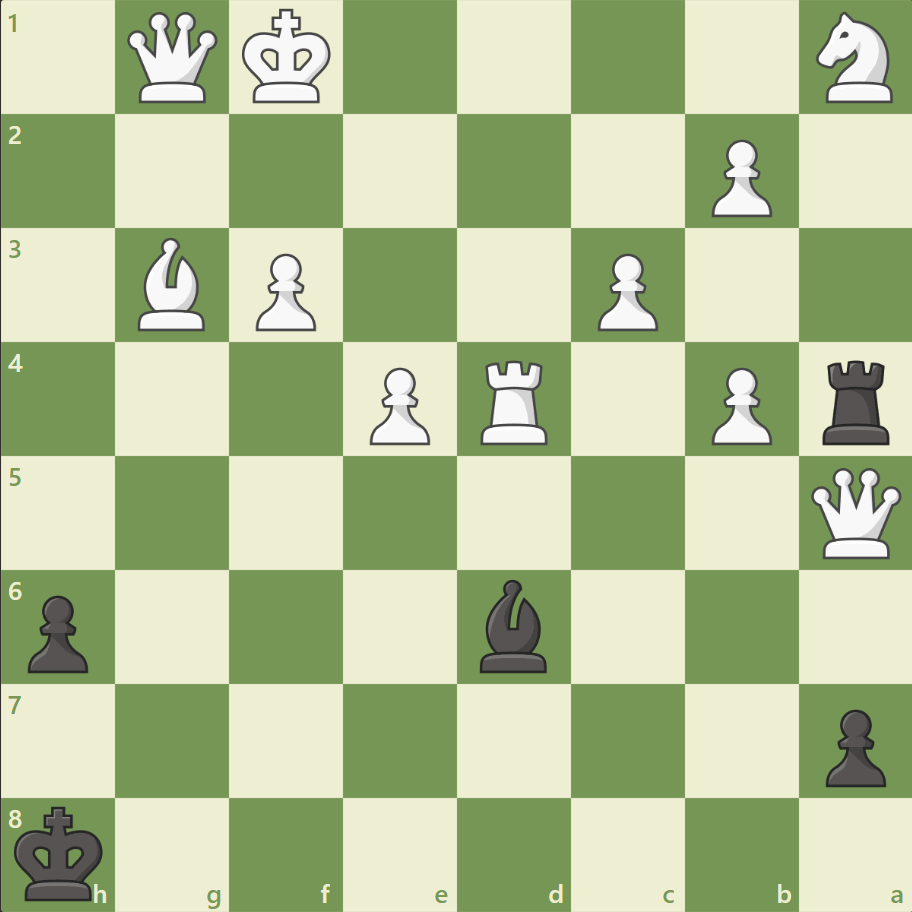B: (131, 233, 215, 336)
K: (238, 4, 338, 112)
N: (806, 7, 903, 110)
P: (701, 359, 776, 450), (247, 246, 322, 337), (701, 132, 776, 223), (361, 359, 435, 450), (588, 246, 662, 337)
Q: (805, 463, 904, 562), (124, 9, 223, 108)
R: (473, 352, 556, 449)
b: (471, 574, 555, 676)
k: (11, 798, 111, 906)
p: (20, 586, 95, 677), (815, 700, 889, 791)
r: (814, 352, 897, 449)
